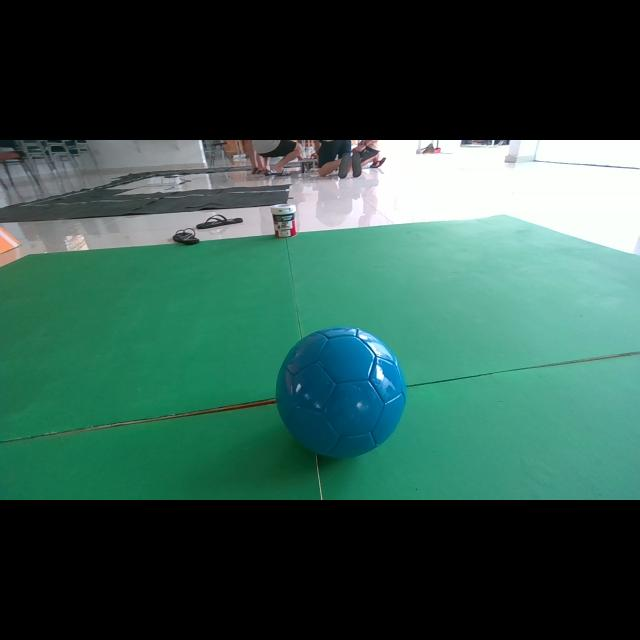B: (275, 326, 406, 458)
